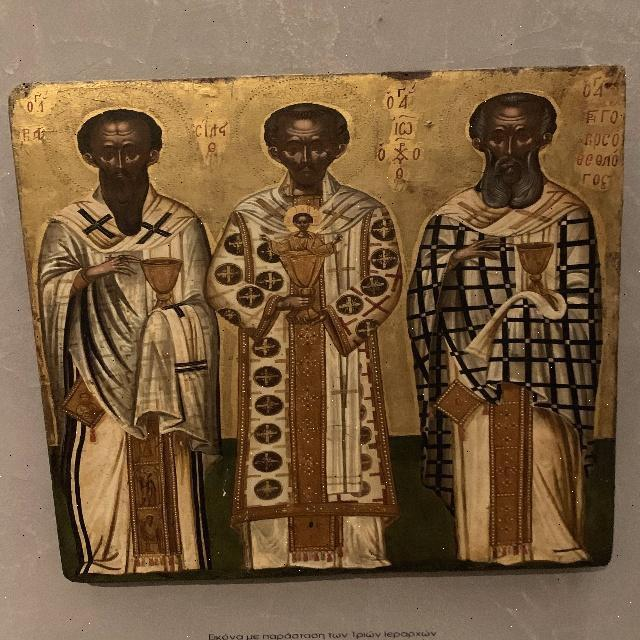aura: (40, 82, 194, 197), (232, 75, 380, 190), (441, 71, 591, 174), (283, 204, 323, 234)
chalice: (277, 251, 326, 327), (141, 254, 185, 316), (519, 240, 561, 297)
christ_pantocrator: (258, 204, 350, 258)
church_father: (222, 80, 410, 578), (425, 85, 610, 574), (58, 84, 216, 578)
church_fathers: (16, 88, 616, 577)
cross: (509, 193, 566, 231), (73, 204, 121, 248), (134, 210, 180, 249), (320, 203, 357, 233), (455, 199, 491, 226)
hand: (332, 234, 344, 246), (258, 234, 271, 243)
